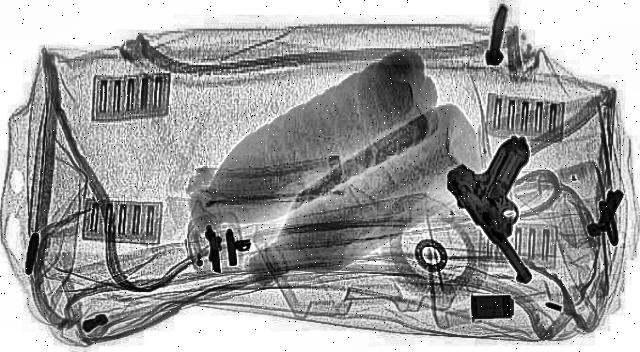Gun: (426, 133, 562, 280)
